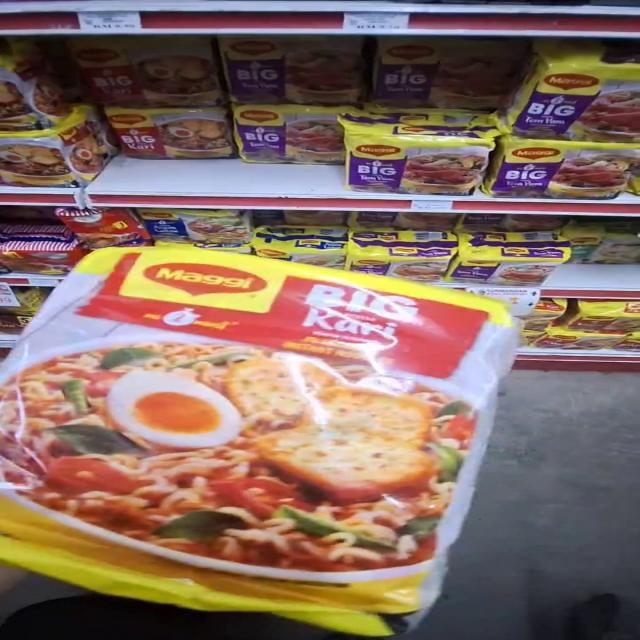Maggi: (0, 398, 516, 626), (6, 248, 529, 435)
